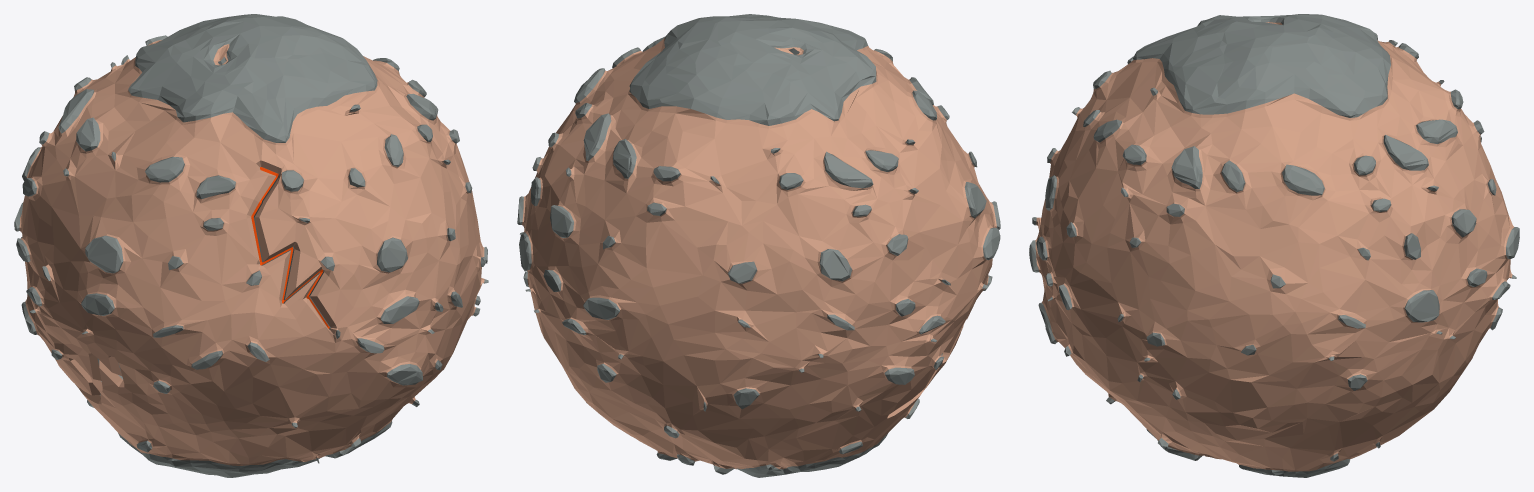
File: Low_Poly_Dry_World.glb
3 renders of one model, left to right at view 1: azimuth 30°, elevation 25°; view 2: azimuth 150°, elevation 25°; view 3: azimuth 270°, elevation 25°, orthographic.
Visible parts, largest first — view 1: Sphere001_Material #36_0, Sphere001_01 - Default_0, Sphere001_Material #56_0; view 2: Sphere001_Material #36_0, Sphere001_01 - Default_0; view 3: Sphere001_Material #36_0, Sphere001_01 - Default_0.
Part boxes in pixels (box(x1,y1,x2,y2)): Sphere001_Material #36_0: box(19, 40, 484, 465); Sphere001_01 - Default_0: box(14, 14, 488, 477); Sphere001_Material #56_0: box(251, 167, 329, 328); Sphere001_Material #36_0: box(522, 37, 996, 469); Sphere001_01 - Default_0: box(517, 14, 1000, 477); Sphere001_Material #36_0: box(1035, 22, 1513, 471); Sphere001_01 - Default_0: box(1029, 14, 1519, 477).
Bounding box in the file's own units: 1.51 × 1.47 × 1.53.
